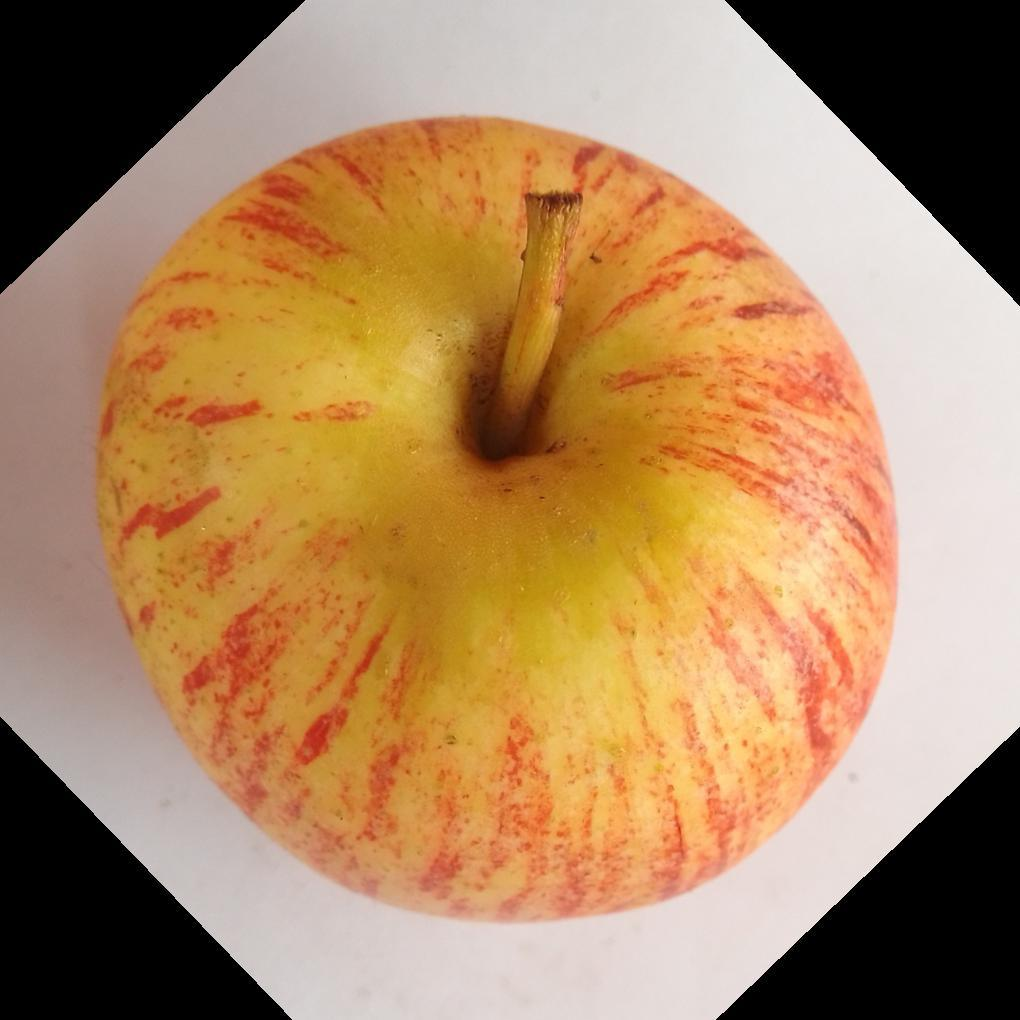FreshGuava: (90, 118, 901, 929)
